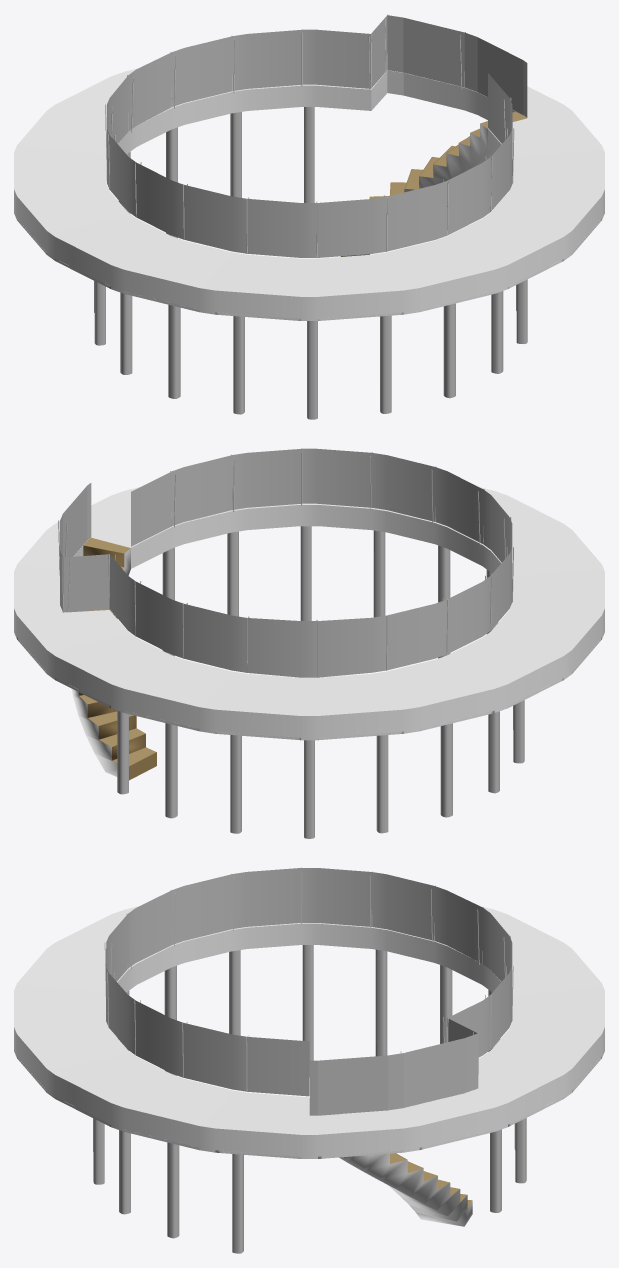
The model's file is MENU_Staircase.FBX.
3 views of the same model, one above another, from view 1: azimuth 30°, elevation 25°; view 2: azimuth 150°, elevation 25°; view 3: azimuth 270°, elevation 25° (orthographic).
Parts seen in each view (by area): view 1: Taso, Kaide, Jalka, Stairs, Kaide_Tuki001, Kaide_Tuki; view 2: Taso, Kaide, Jalka, Stairs, Kaide_Tuki001, Kaide_Tuki; view 3: Taso, Kaide, Jalka, Stairs, Kaide_Tuki001, Kaide_Tuki.
Part boxes in pixels (left/top/right/bottom): Taso: left=14, top=68, right=604, bottom=320; Kaide: left=107, top=15, right=527, bottom=257; Jalka: left=94, top=107, right=527, bottom=419; Stairs: left=341, top=111, right=526, bottom=256; Kaide_Tuki001: left=105, top=14, right=514, bottom=258; Kaide_Tuki: left=111, top=19, right=507, bottom=202; Taso: left=14, top=487, right=604, bottom=740; Kaide: left=60, top=448, right=512, bottom=677; Jalka: left=117, top=526, right=524, bottom=838; Stairs: left=69, top=537, right=156, bottom=780; Kaide_Tuki001: left=58, top=448, right=513, bottom=677; Kaide_Tuki: left=65, top=452, right=507, bottom=620; Taso: left=14, top=906, right=604, bottom=1158; Kaide: left=106, top=868, right=512, bottom=1115; Jalka: left=93, top=945, right=526, bottom=1253; Stairs: left=309, top=1098, right=472, bottom=1226; Kaide_Tuki001: left=104, top=867, right=513, bottom=1108; Kaide_Tuki: left=110, top=871, right=506, bottom=1052.
Bounding box in the file's own units: 871 × 341 × 862.
